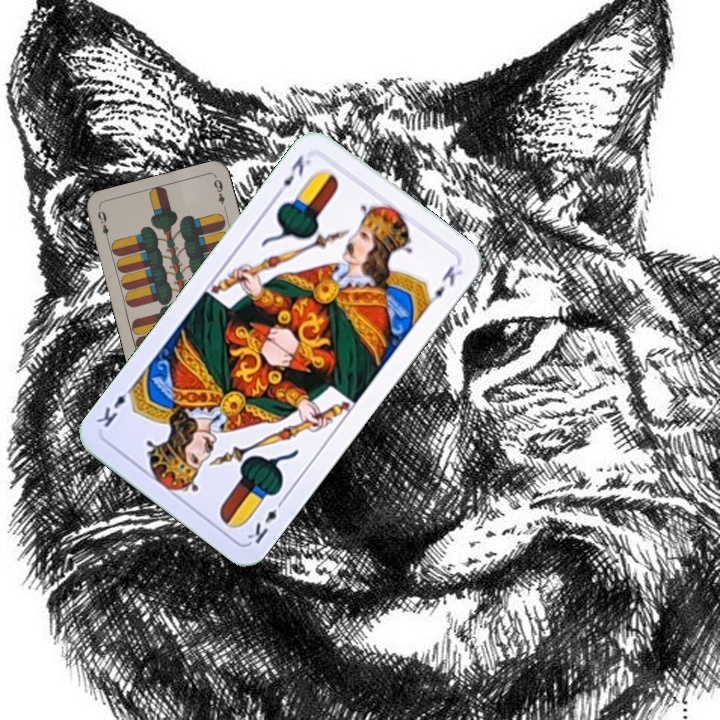E9: (94, 206, 112, 245)
EK: (243, 494, 288, 547), (271, 151, 313, 200)
